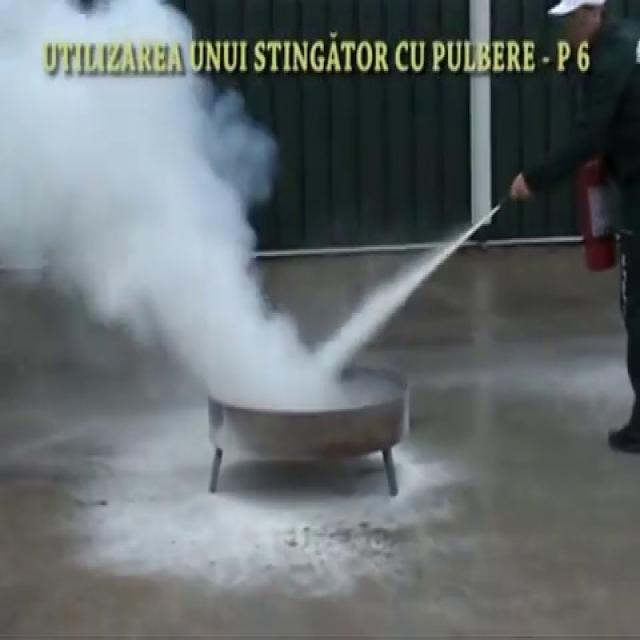Smoke: (0, 0, 325, 403)
